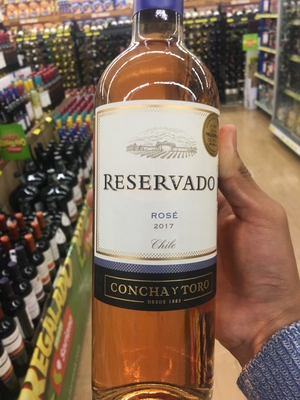reservado rose: (92, 33, 216, 400)
